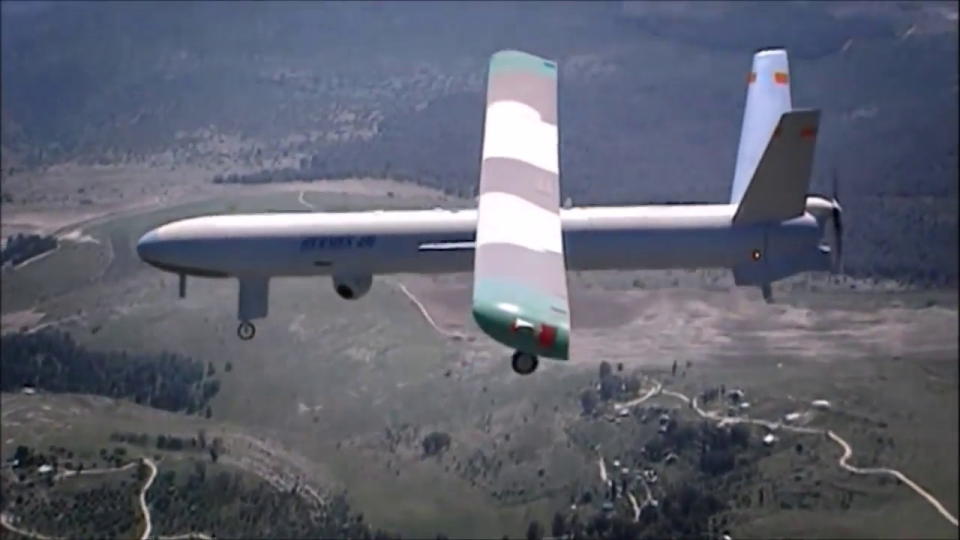military drone: (135, 48, 844, 375)
